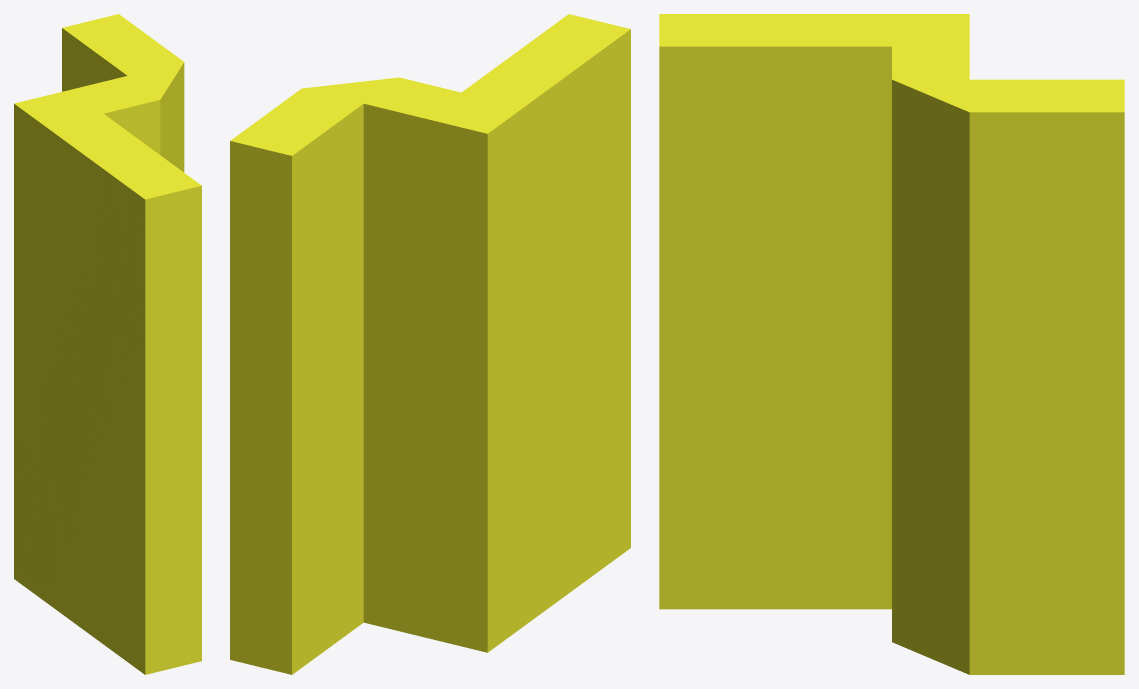
The model's file is x_skala_crash_63_prohod3_1_mirror.fbx.
3 renders of one model, left to right at view 1: azimuth 30°, elevation 25°; view 2: azimuth 150°, elevation 25°; view 3: azimuth 270°, elevation 25°, orthographic. The views are drawn at different scales.
Visible parts, largest first — view 1: x_skala_crash_63_prohod3_1_mirror1; view 2: x_skala_crash_63_prohod3_1_mirror1; view 3: x_skala_crash_63_prohod3_1_mirror1.
Boxes of the visible parts, x1,y1,x2,y2 form: x_skala_crash_63_prohod3_1_mirror1: (14,14,201,674); x_skala_crash_63_prohod3_1_mirror1: (230,14,630,674); x_skala_crash_63_prohod3_1_mirror1: (659,14,1124,674).
Size of the model in its own units: 1.5 by 4 by 3.
